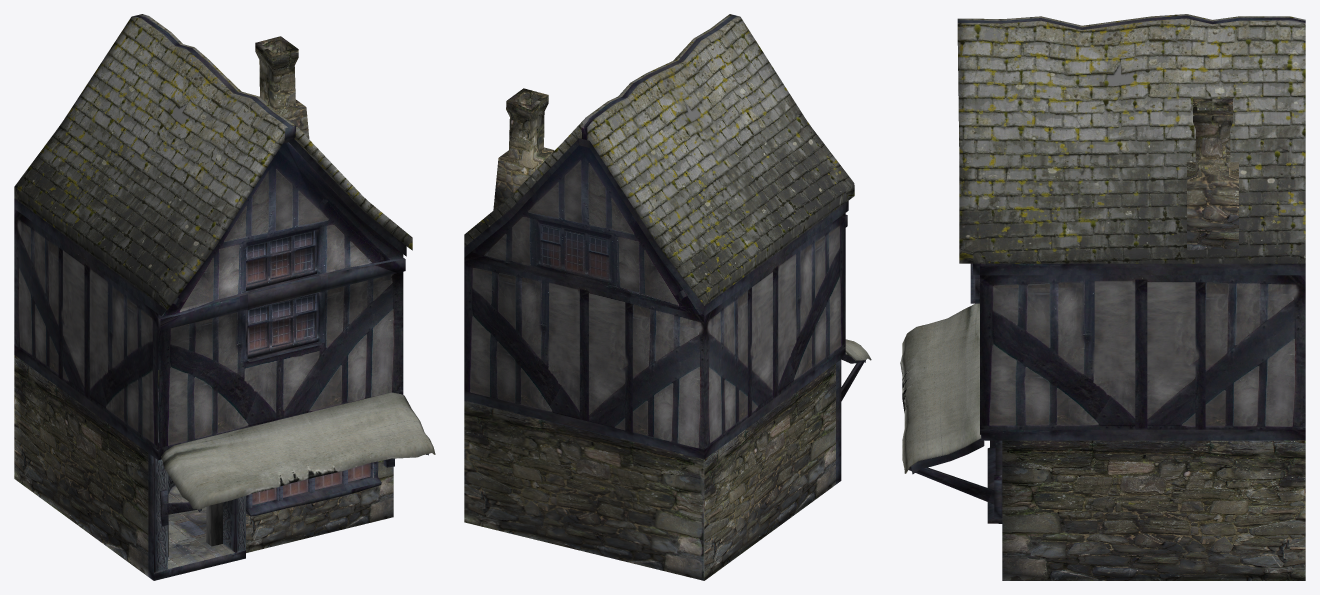
File: medhuose20.fbx
3 renders of one model, left to right at view 1: azimuth 30°, elevation 25°; view 2: azimuth 150°, elevation 25°; view 3: azimuth 270°, elevation 25°, orthographic. The views are drawn at different scales.
Visible parts, largest first — view 1: medhouse22, medhouse22_interior; view 2: medhouse22; view 3: medhouse22.
Boxes of the visible parts, x1=… form: medhouse22: x1=14, y1=14, x2=435, y2=580; medhouse22_interior: x1=168, y1=485, x2=222, y2=556; medhouse22: x1=464, y1=14, x2=871, y2=580; medhouse22: x1=900, y1=14, x2=1305, y2=580.
Bounding box in the file's own units: 778 × 1319 × 976.
